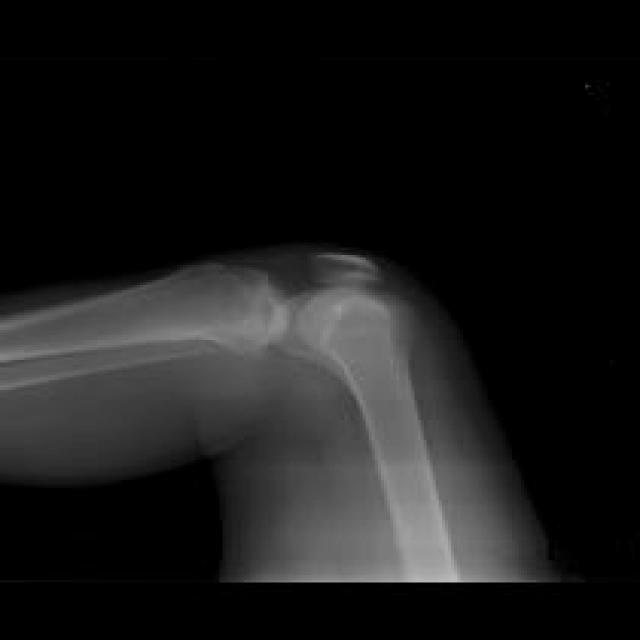normal: (3, 254, 456, 579)
